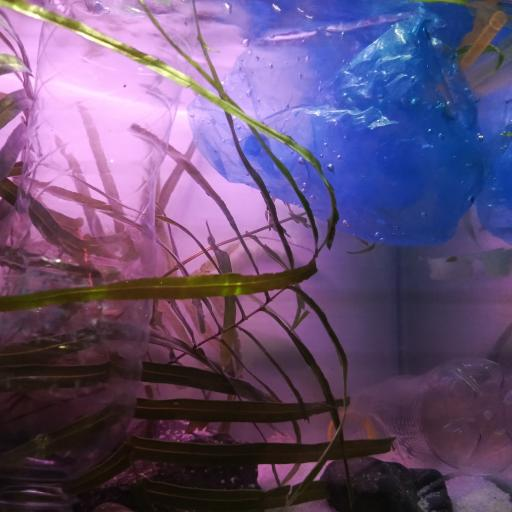plastic_bag: (188, 0, 512, 250)
plastic_bottle: (2, 0, 195, 512), (326, 356, 512, 476)
plastic_straw: (464, 8, 506, 80)
